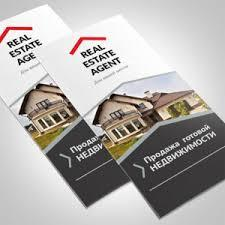Printing industry: (2, 1, 225, 225)
